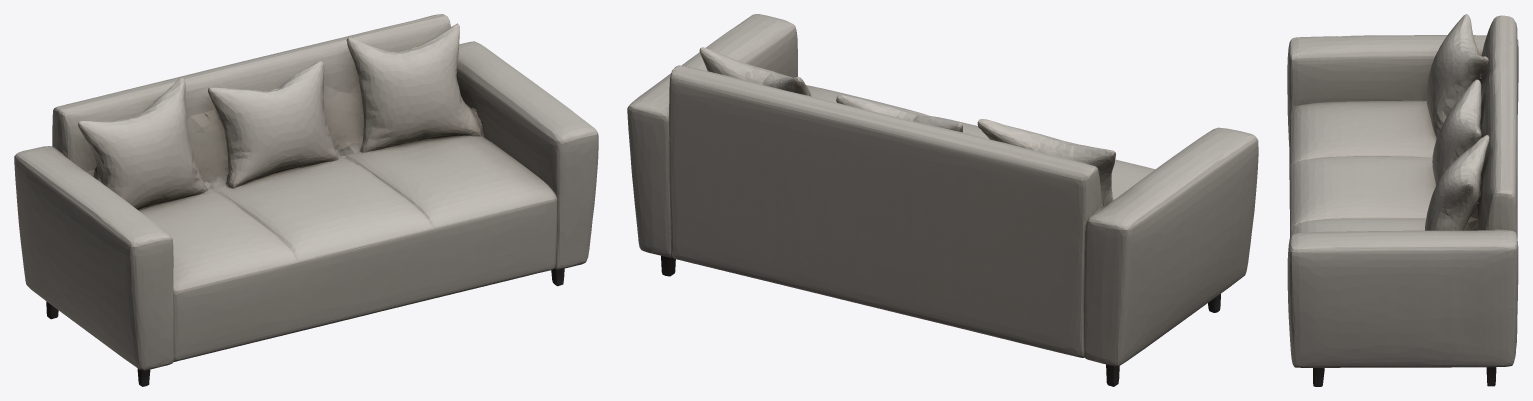
The model's file is sofa_singe_3div_square_arm_ma.glb.
The picture shows the model from 3 angles, left to right: view 1: azimuth 30°, elevation 25°; view 2: azimuth 150°, elevation 25°; view 3: azimuth 270°, elevation 25°; orthographic projection. The views are drawn at different scales.
Visible parts, largest first — view 1: world; view 2: world; view 3: world.
Part boxes in pixels (bbox=[...]): world: bbox=[14, 14, 598, 386]; world: bbox=[627, 14, 1258, 386]; world: bbox=[1287, 14, 1518, 386].
Size of the model in its own units: 0.9949 by 0.4272 by 0.4516.
1 material, 1 textured.
